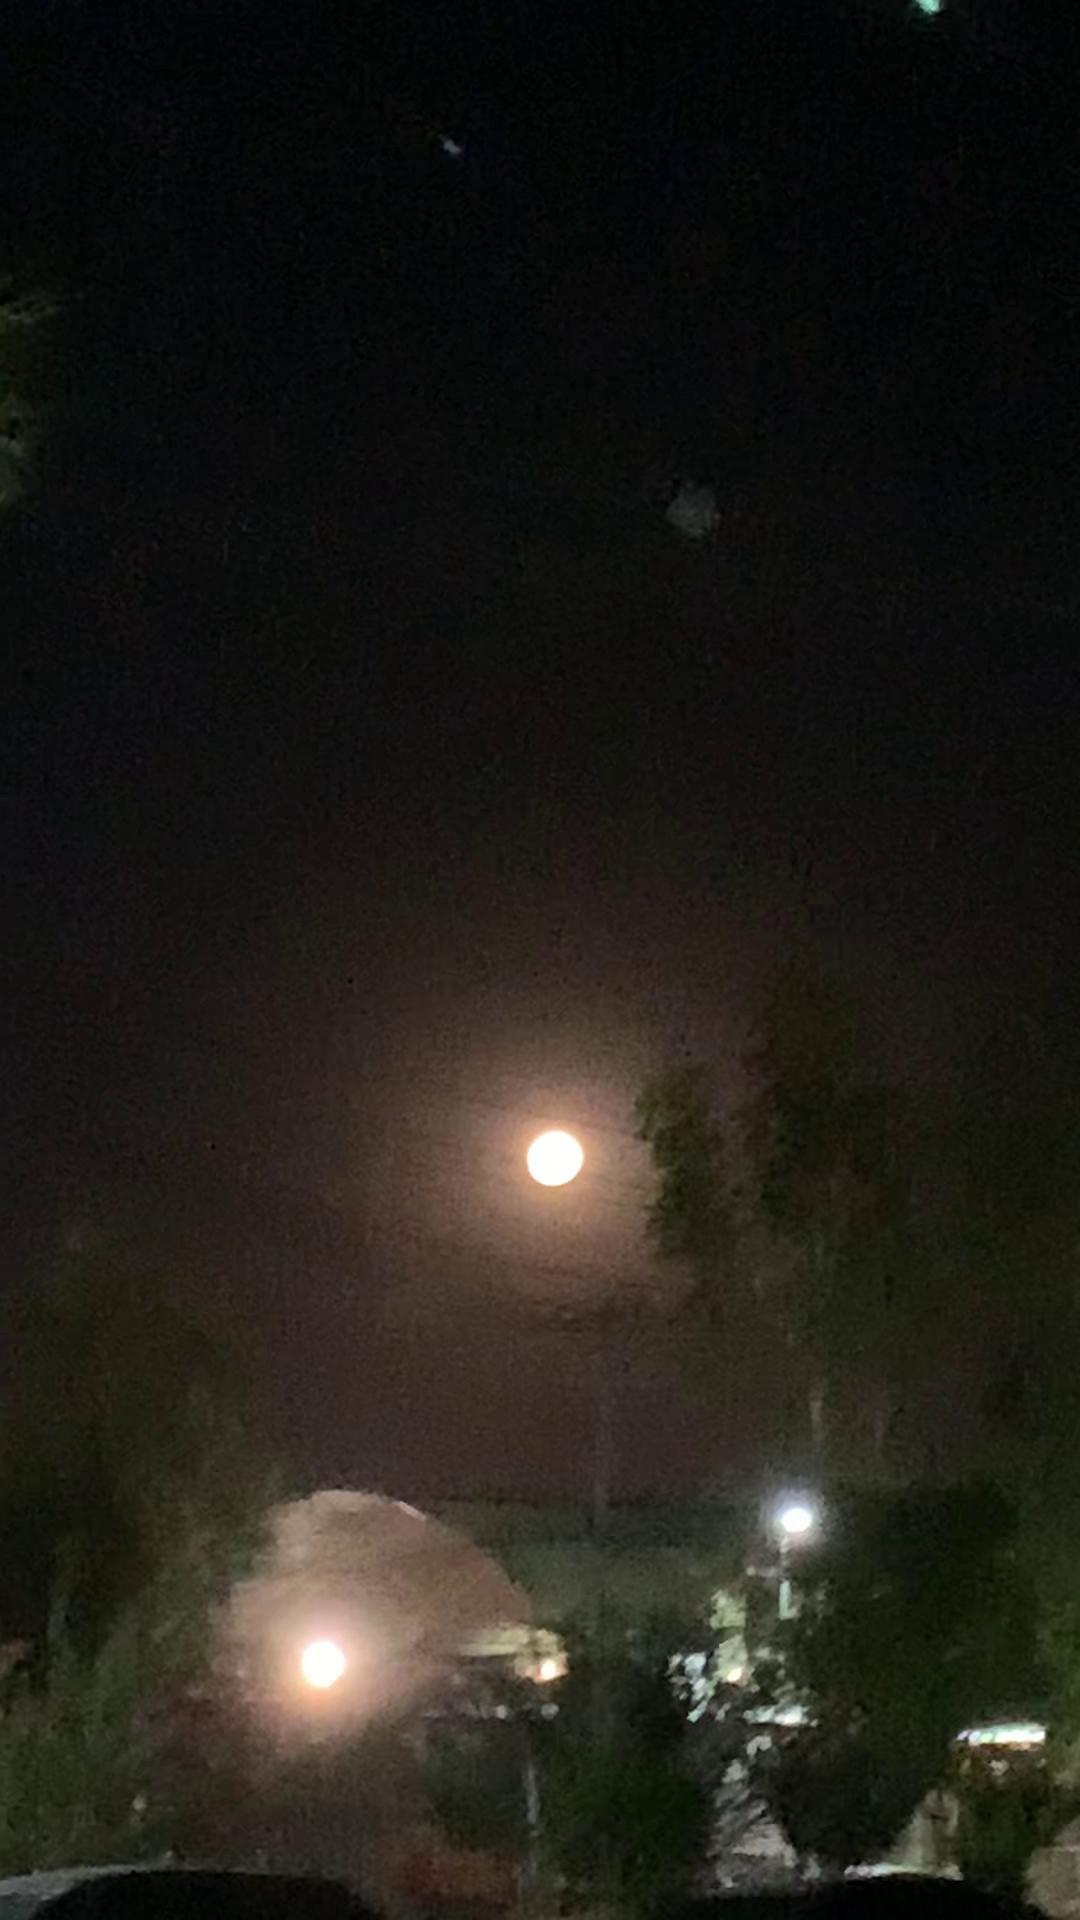moon: (512, 1134, 582, 1207)
